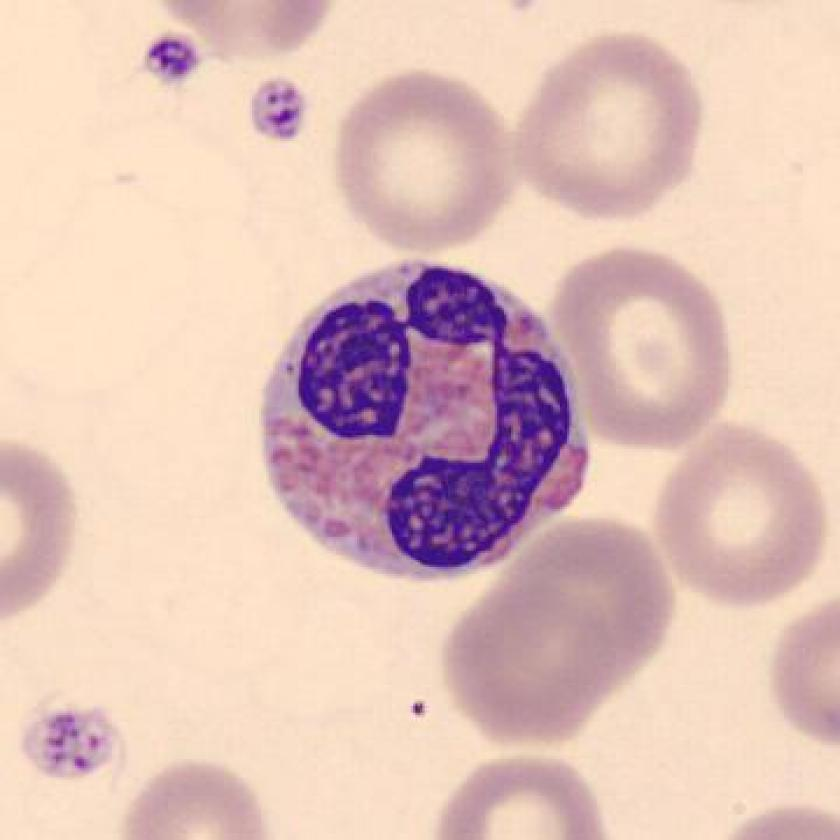eosinophil: (242, 242, 606, 596)
